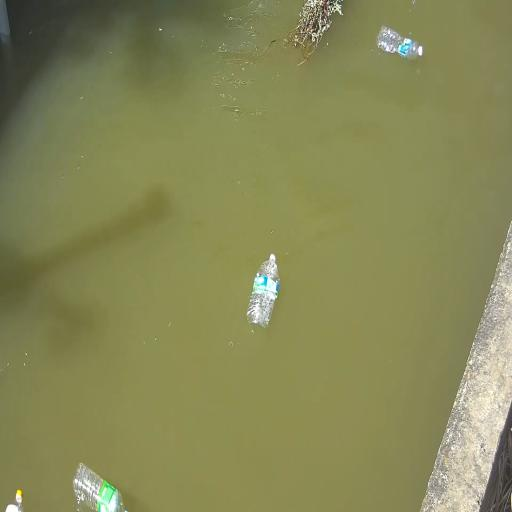plastic: (246, 252, 280, 329), (73, 463, 125, 511), (377, 25, 422, 58), (6, 490, 23, 511)
twig: (263, 0, 344, 68)
